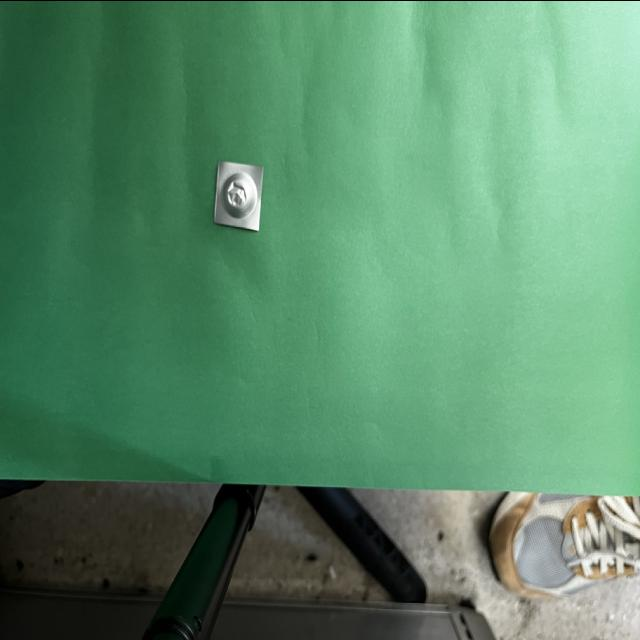Other Objects: (214, 161, 263, 231)
